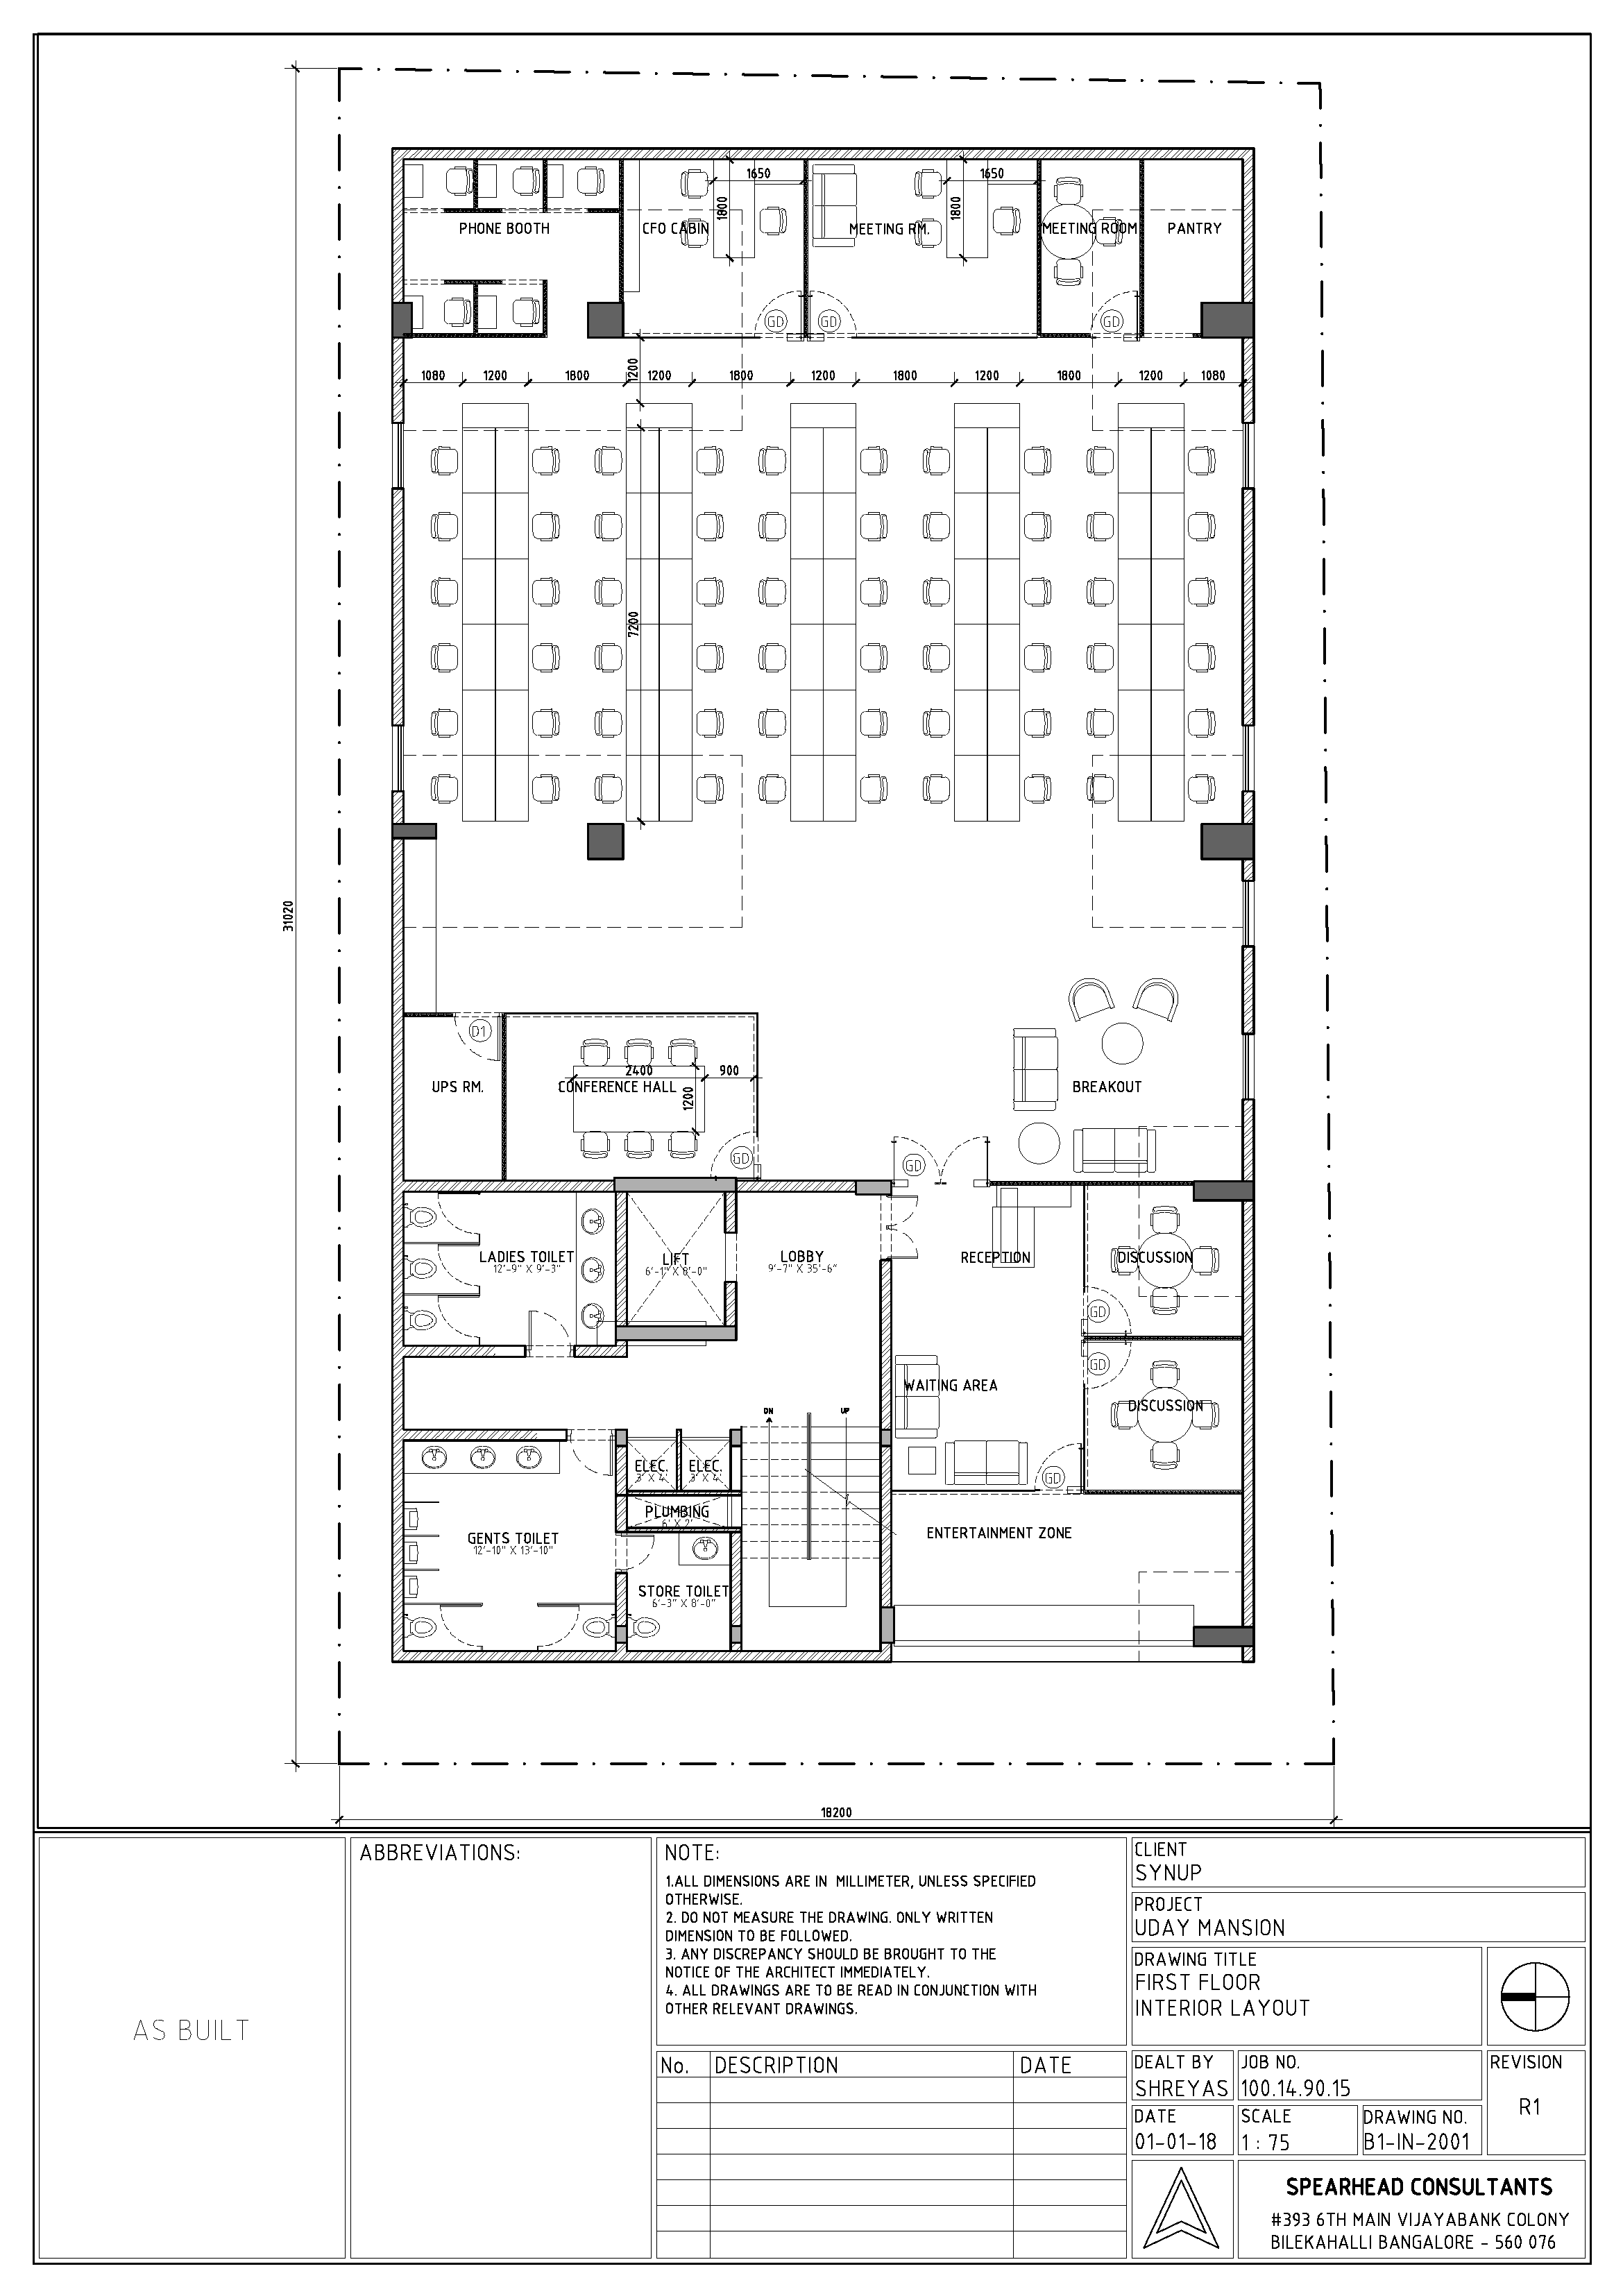door: (892, 1132, 943, 1186), (1034, 1440, 1085, 1492), (808, 288, 858, 337), (944, 1132, 991, 1184), (754, 289, 803, 337), (1091, 288, 1139, 338), (1085, 1286, 1132, 1336), (1086, 1341, 1133, 1389), (711, 1131, 758, 1179), (453, 1015, 501, 1062), (566, 1433, 615, 1477), (536, 1604, 583, 1650), (436, 1189, 481, 1236), (437, 1243, 481, 1289), (440, 1604, 483, 1649), (528, 1310, 575, 1350), (437, 1295, 480, 1337), (614, 1531, 656, 1572), (885, 1226, 921, 1259), (885, 1192, 920, 1226)
